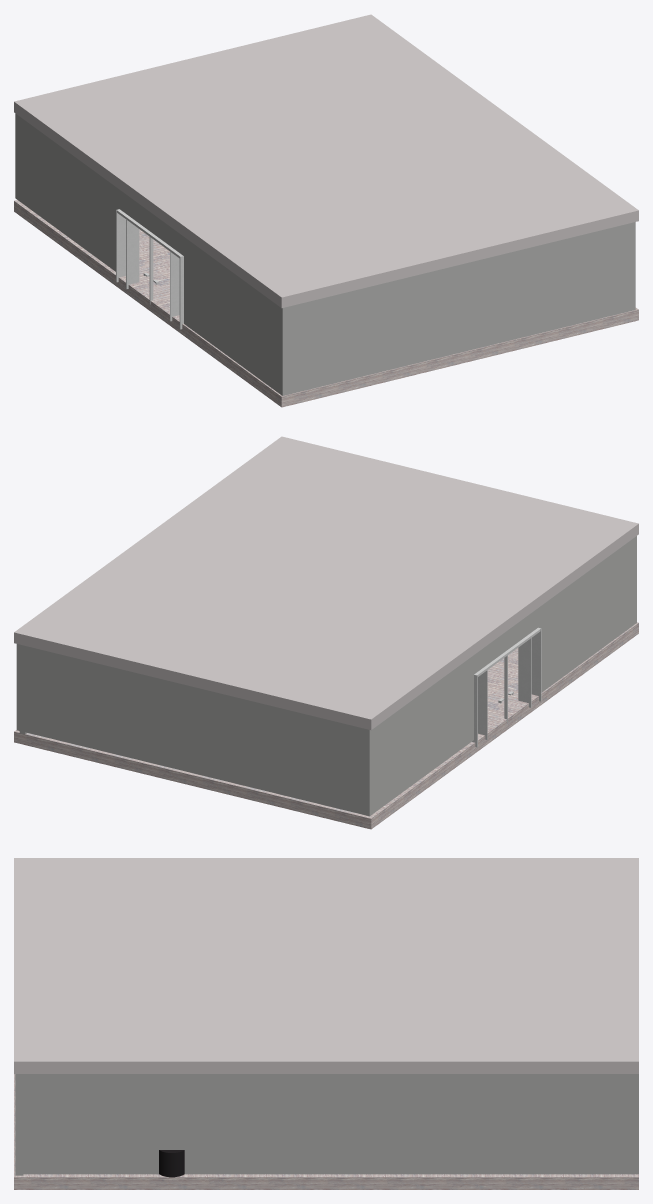
File: baseTecnofutura.obj
3 renders of one model, top to bottom at view 1: azimuth 30°, elevation 25°; view 2: azimuth 150°, elevation 25°; view 3: azimuth 270°, elevation 25°, orthographic. The views are drawn at different scales.
Parts seen in each view (by area): view 1: Base1, Part118, Base2, Part115, Part116, Part67, Part112, Part113, Part108; view 2: Base1, Part117, Base2, Part116, Part115, Part67, Part108, Part106, Part112; view 3: Base1, Part119, Base2, Part118, Part117, Part70.
Part boxes in pixels (x1=…): Base1: x1=14, y1=14, x2=638, y2=307; Part118: x1=283, y1=222, x2=635, y2=395; Base2: x1=14, y1=200, x2=638, y2=407; Part115: x1=184, y1=237, x2=288, y2=395; Part116: x1=15, y1=113, x2=119, y2=271; Part67: x1=119, y1=190, x2=183, y2=255; Part112: x1=126, y1=219, x2=139, y2=289; Part113: x1=116, y1=209, x2=125, y2=282; Part108: x1=170, y1=251, x2=179, y2=321; Base1: x1=14, y1=436, x2=638, y2=729; Part117: x1=16, y1=644, x2=372, y2=816; Base2: x1=14, y1=622, x2=638, y2=829; Part116: x1=364, y1=655, x2=473, y2=815; Part115: x1=538, y1=536, x2=636, y2=692; Part67: x1=474, y1=608, x2=538, y2=674; Part108: x1=518, y1=638, x2=531, y2=707; Part106: x1=531, y1=627, x2=541, y2=701; Part112: x1=478, y1=670, x2=487, y2=739; Base1: x1=14, y1=858, x2=638, y2=1073; Part119: x1=23, y1=1074, x2=638, y2=1174; Base2: x1=14, y1=1074, x2=638, y2=1189; Part118: x1=15, y1=1074, x2=23, y2=1175; Part117: x1=631, y1=1074, x2=638, y2=1173; Part70: x1=159, y1=1150, x2=184, y2=1177.
Bounding box in the file's own units: 65.23 × 19.08 × 84.21.
